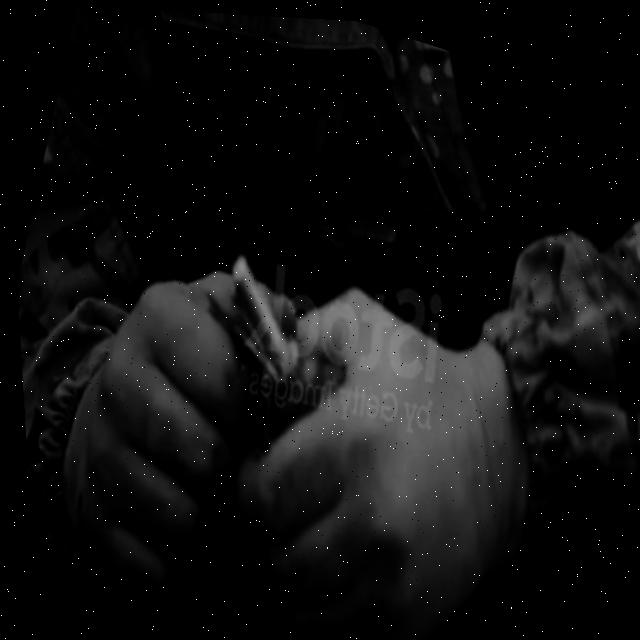grenade: (178, 226, 370, 442)
